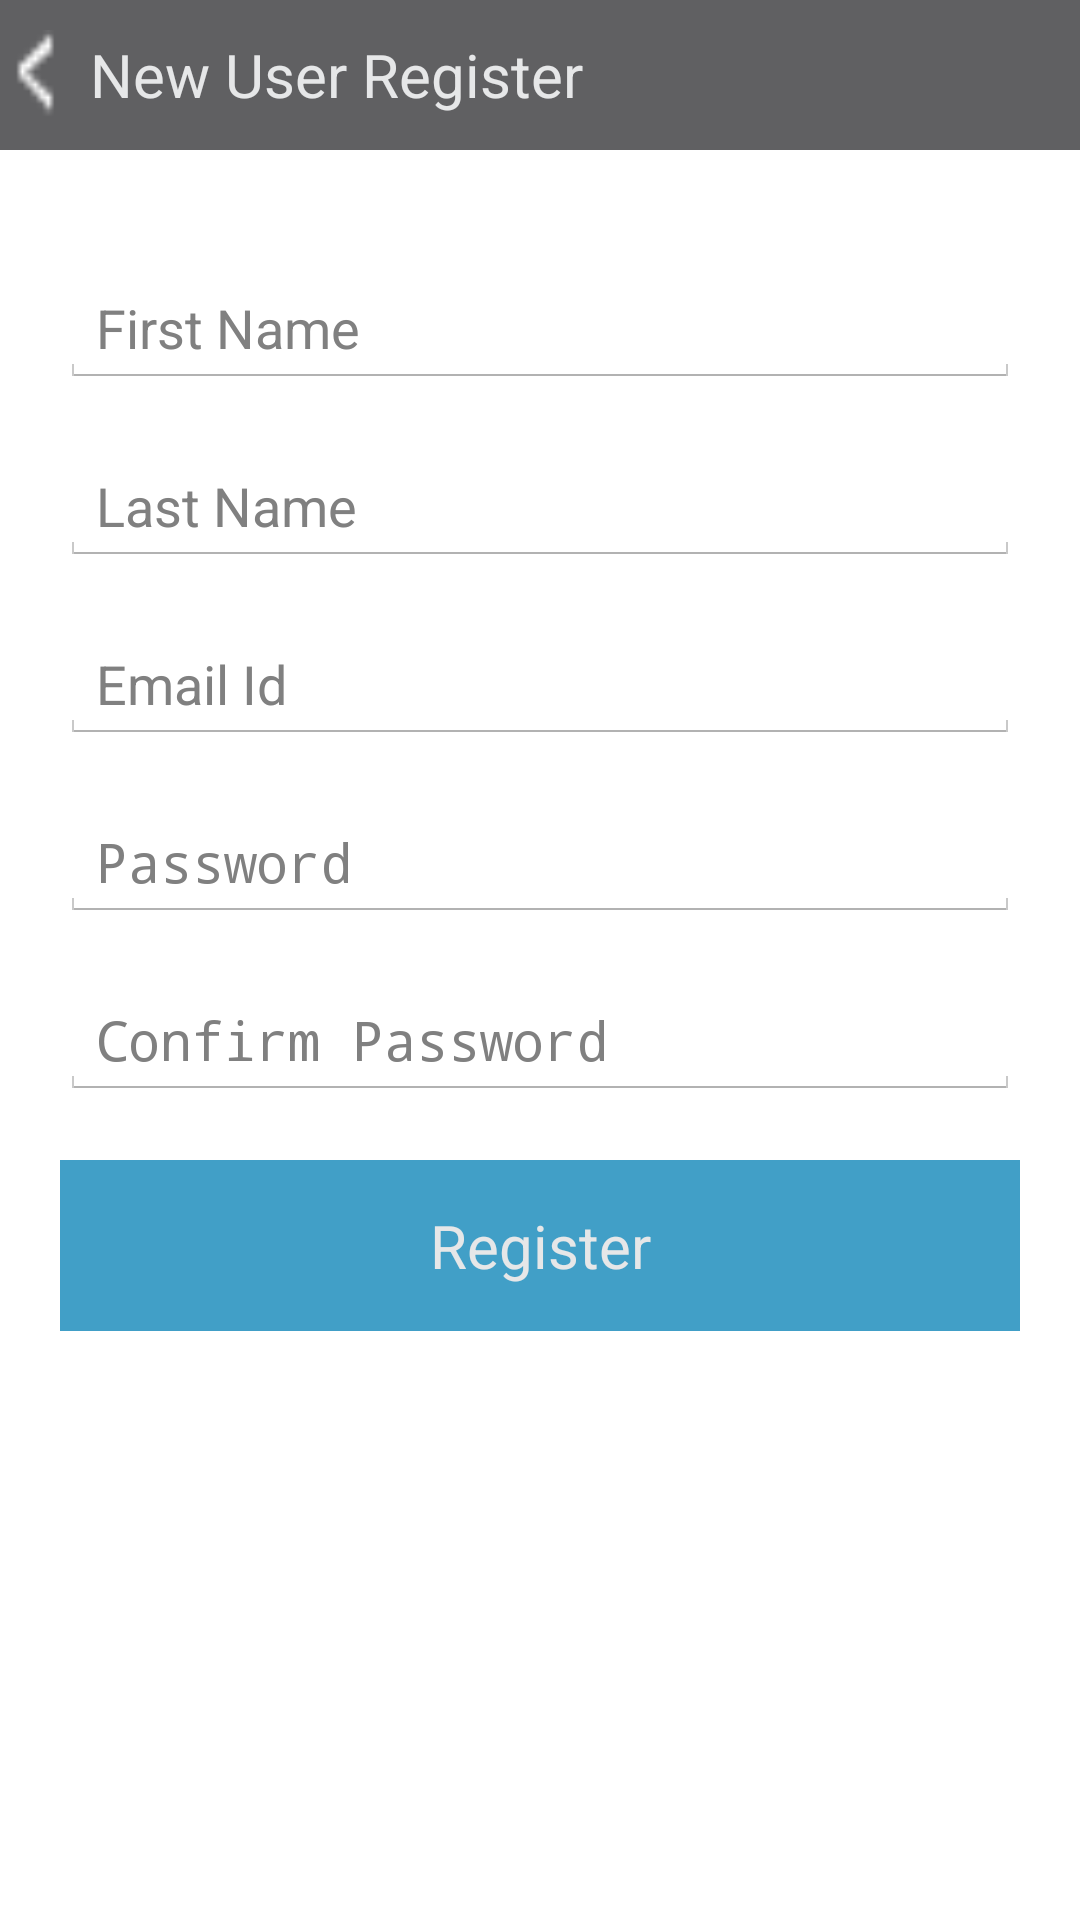

Point at icon controls on the screen. Image size 1080 x 1920, points as (x=x, y=y).
backicon: (x=35, y=73)
